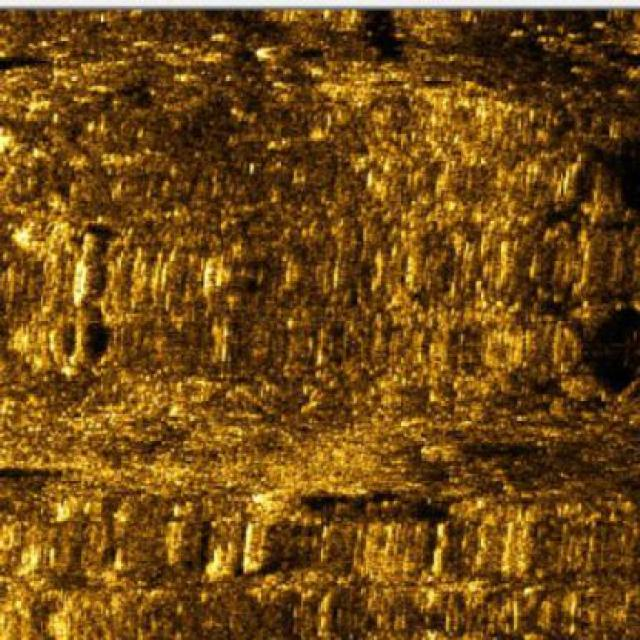bedrock group: (0, 6, 637, 639)
